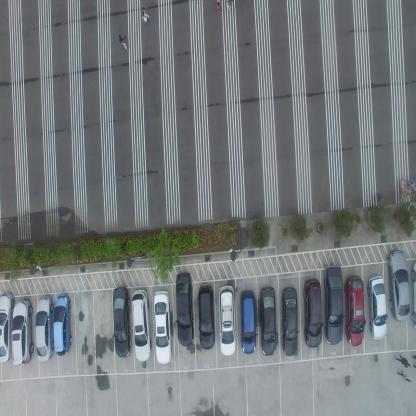car: (386, 248, 410, 322), (323, 263, 343, 345), (343, 274, 365, 348), (131, 288, 152, 364), (11, 300, 33, 368), (175, 270, 194, 348), (153, 289, 172, 367), (112, 286, 132, 360), (303, 277, 322, 349), (218, 284, 236, 358), (368, 274, 388, 340), (52, 292, 72, 357), (280, 287, 298, 357), (259, 286, 277, 356), (197, 284, 215, 352), (35, 296, 53, 364), (0, 291, 15, 366), (240, 290, 256, 355), (410, 258, 416, 326)
